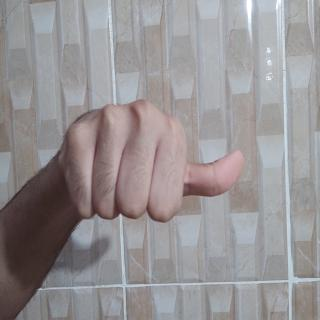ALIF: (69, 96, 176, 320)
